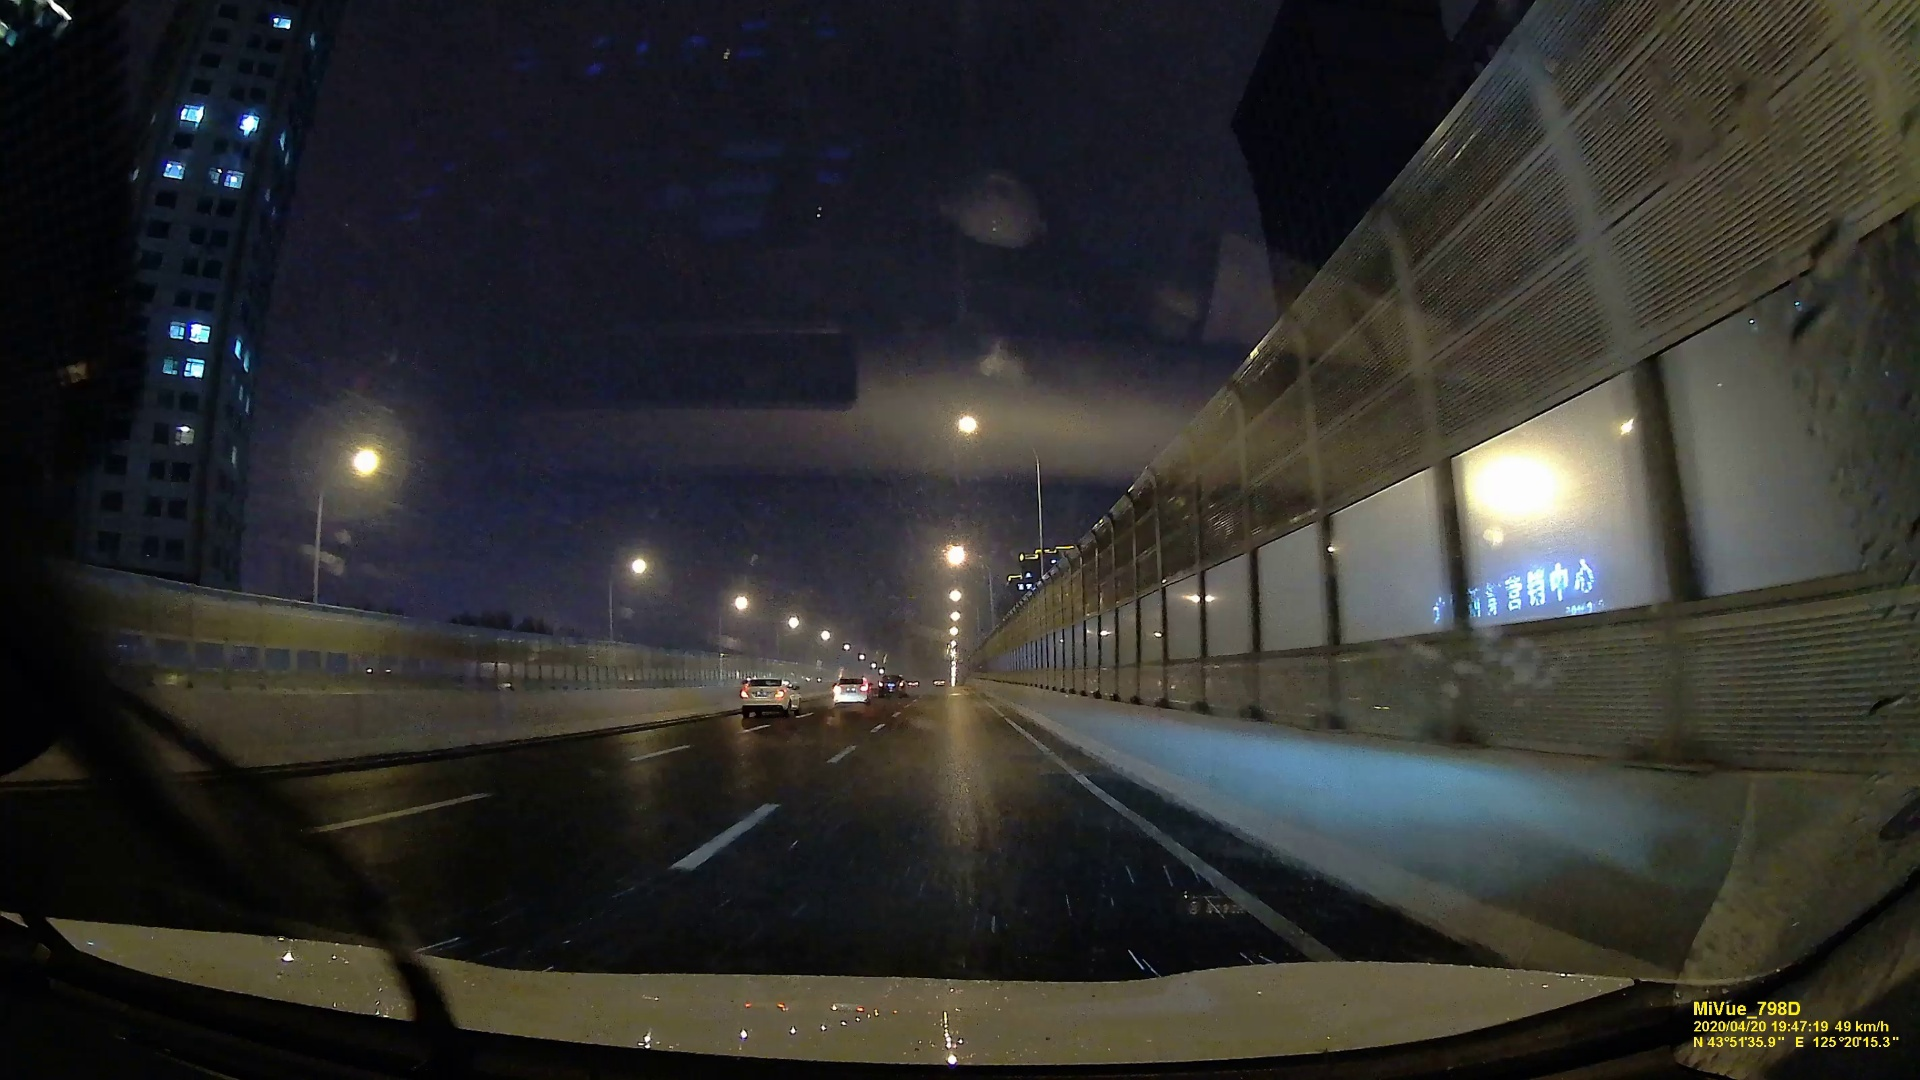vehicle: (737, 676, 800, 719), (833, 675, 869, 707), (876, 675, 906, 695)
